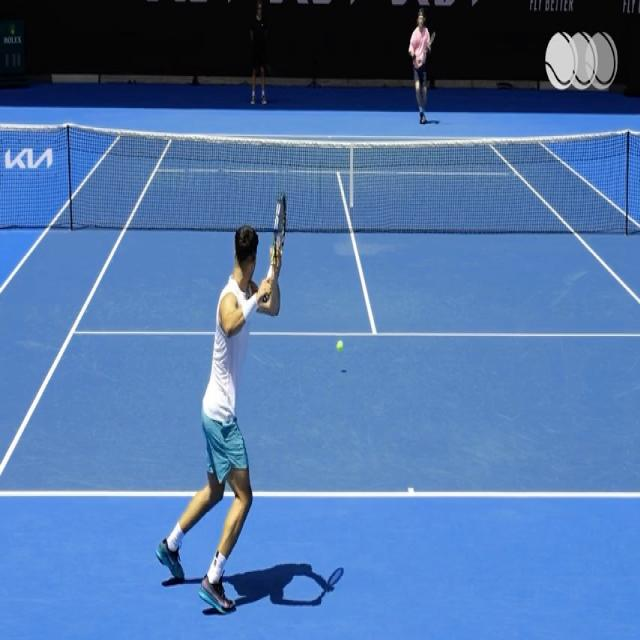forehand-ready: (158, 195, 296, 616)
